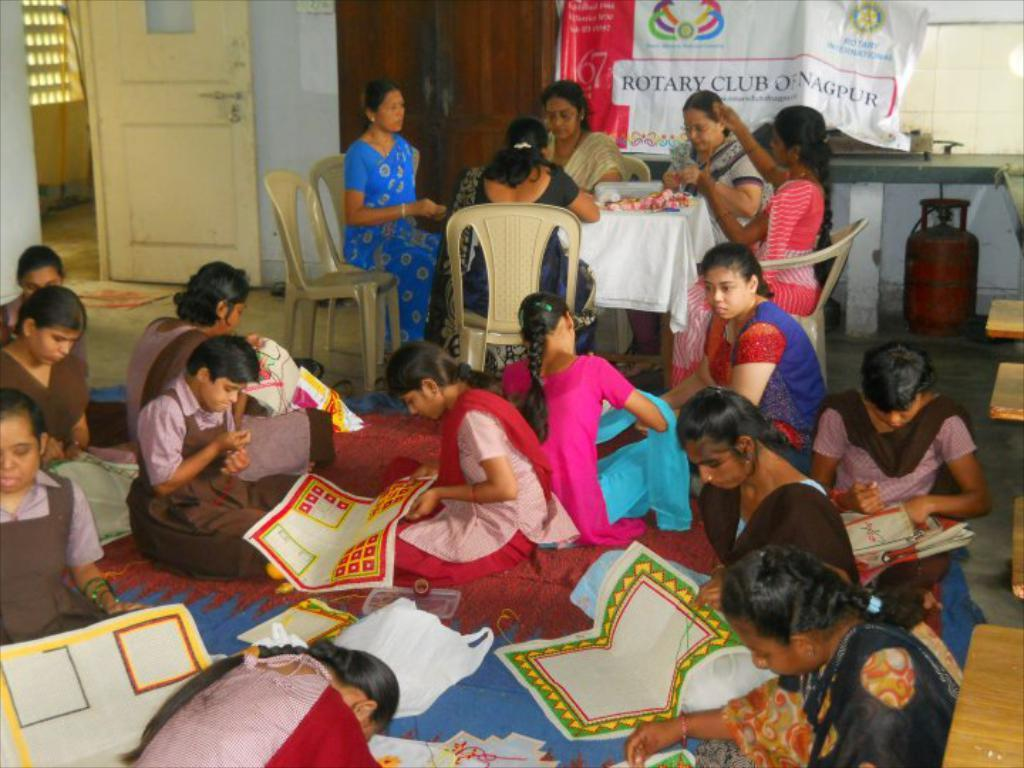Sem Máscara: (724, 616, 806, 674), (0, 412, 39, 487), (688, 436, 746, 485), (703, 266, 749, 316), (200, 375, 243, 409), (27, 334, 77, 362), (545, 96, 579, 135), (684, 105, 716, 146), (400, 391, 444, 419), (374, 90, 402, 126), (768, 126, 792, 161)
